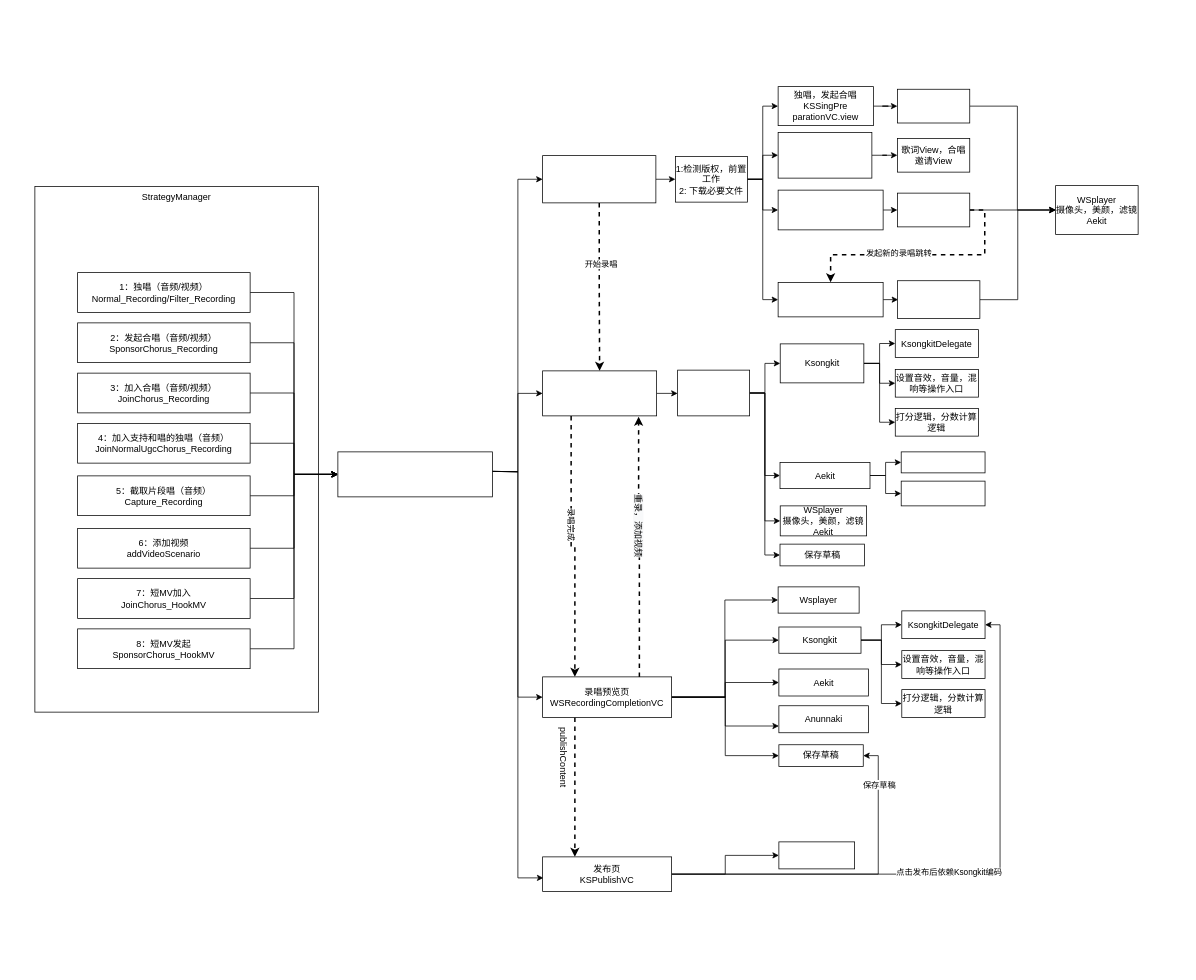
Image size: 1196x980. Some labels were removed from this diagram. The shapes that lost their labels are listed below. From the top down, each one's centre as x and y in pixels, then its label:
At (x=933, y=105): "歌词View，下载进度条，等Subview".
At (x=824, y=155): "发起合唱，选择j角色 WSChorusSection ChooseView".
At (x=599, y=179): "录唱前置页 KSSingPreparationVC".
At (x=830, y=209): "WSHookDuetPrepareView _Products".
At (x=933, y=209): "视频播放View，发起新的合唱View，加入按钮".
At (x=830, y=299): "WSHookDuetPrepareView _Produce".
At (x=938, y=299): "GPUImageView。下载进度条，特效选择View".
At (x=599, y=393): "录唱页面 KSRecordingVC".
At (x=713, y=392): "1:检测版权,前置工作".
At (x=414, y=474): "- (BOOL)singSongWithStrategy:(KSRecordingStrategyBase *)strategy;".
At (x=942, y=462): "设置手势".
At (x=942, y=493): "AekitDelegate".
At (x=816, y=855): "uploadSDK".
